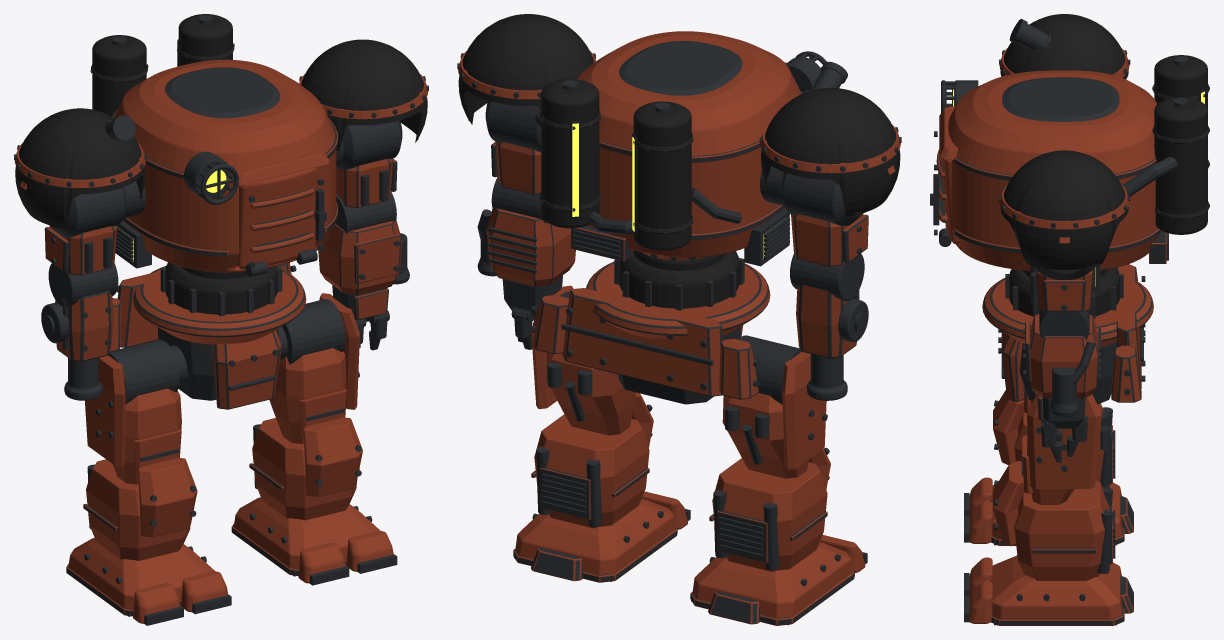
File: Titan_H1_r6.fbx
3 renders of one model, left to right at view 1: azimuth 30°, elevation 25°; view 2: azimuth 150°, elevation 25°; view 3: azimuth 270°, elevation 25°, orthographic. The views are drawn at different scales.
Parts seen in each view (by area): view 1: H1_Torso_Upper, H1_Pelvis, H1_Shoulder_R, H1_Thigh_R, H1_Thigh_L, H1_Shin_R, H1_Shin_L, H1_Shoulder_L, H1_Hatch, H1_Cannon, H1_Forearm_L, H1_Foot_L (+12 smaller); view 2: H1_Torso_Upper, H1_Pelvis, H1_Shoulder_R, H1_Shin_L, H1_Shin_R, H1_Thigh_R, H1_Shoulder_L, H1_Tank_R, H1_Foot_L, H1_Foot_R, H1_Tank_L, H1_Cannon (+13 smaller); view 3: H1_Torso_Upper, H1_Shoulder_L, H1_Shin_L, H1_Pelvis, H1_Foot_L, H1_Tank_L, H1_Forearm_L, H1_Shoulder_R, H1_Thigh_L, H1_Shin_R, H1_UpperArm_L, H1_Tank_R (+10 smaller).
Boxes of the visible parts, x1=… form: H1_Torso_Upper: x1=112, y1=59, x2=337, y2=272; H1_Pelvis: x1=111, y1=262, x2=306, y2=409; H1_Shoulder_R: x1=14, y1=108, x2=146, y2=228; H1_Thigh_R: x1=85, y1=339, x2=181, y2=484; H1_Thigh_L: x1=269, y1=293, x2=359, y2=443; H1_Shin_R: x1=83, y1=457, x2=197, y2=560; H1_Shin_L: x1=249, y1=417, x2=362, y2=520; H1_Shoulder_L: x1=299, y1=39, x2=428, y2=150; H1_Hatch: x1=236, y1=167, x2=326, y2=276; H1_Cannon: x1=41, y1=263, x2=118, y2=400; H1_Forearm_L: x1=318, y1=191, x2=409, y2=294; H1_Foot_L: x1=231, y1=497, x2=380, y2=576; H1_Torso_Upper: x1=571, y1=31, x2=803, y2=261; H1_Pelvis: x1=531, y1=261, x2=770, y2=404; H1_Shoulder_R: x1=759, y1=61, x2=901, y2=216; H1_Shin_L: x1=531, y1=392, x2=653, y2=528; H1_Shin_R: x1=709, y1=447, x2=830, y2=571; H1_Thigh_R: x1=722, y1=335, x2=827, y2=478; H1_Shoulder_L: x1=457, y1=14, x2=596, y2=124; H1_Tank_R: x1=631, y1=101, x2=693, y2=250; H1_Foot_L: x1=513, y1=499, x2=677, y2=582; H1_Foot_R: x1=690, y1=542, x2=854, y2=625; H1_Tank_L: x1=539, y1=79, x2=600, y2=228; H1_Cannon: x1=790, y1=253, x2=868, y2=400; H1_Torso_Upper: x1=939, y1=70, x2=1168, y2=270; H1_Shoulder_L: x1=999, y1=150, x2=1130, y2=269; H1_Shin_L: x1=993, y1=461, x2=1115, y2=580; H1_Pelvis: x1=982, y1=264, x2=1153, y2=404; H1_Foot_L: x1=991, y1=555, x2=1133, y2=625; H1_Tank_L: x1=1152, y1=96, x2=1209, y2=234; H1_Forearm_L: x1=1023, y1=309, x2=1100, y2=416; H1_Shoulder_R: x1=999, y1=14, x2=1130, y2=79; H1_Thigh_L: x1=1021, y1=392, x2=1109, y2=504; H1_Shin_R: x1=993, y1=390, x2=1115, y2=487; H1_UpperArm_L: x1=1030, y1=265, x2=1094, y2=312; H1_Tank_R: x1=1152, y1=55, x2=1209, y2=168.
Bounding box in the file's own units: 5.09 × 5.96 × 3.12.
